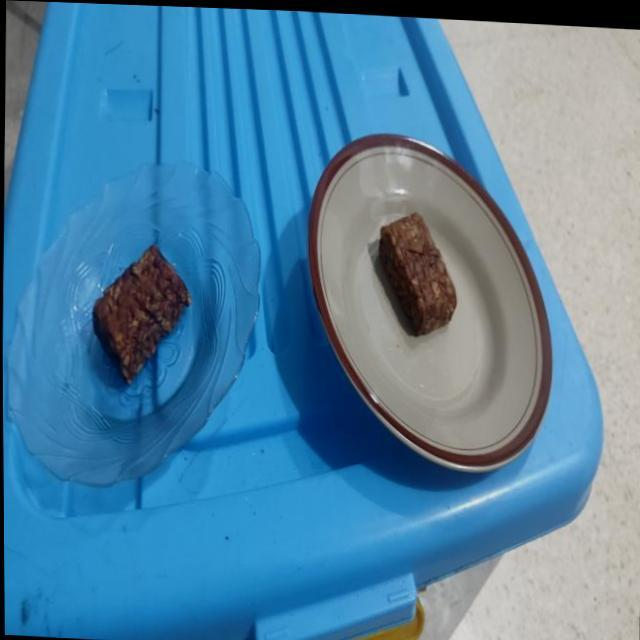tempe_goreng: (92, 245, 190, 383), (379, 212, 456, 334)
